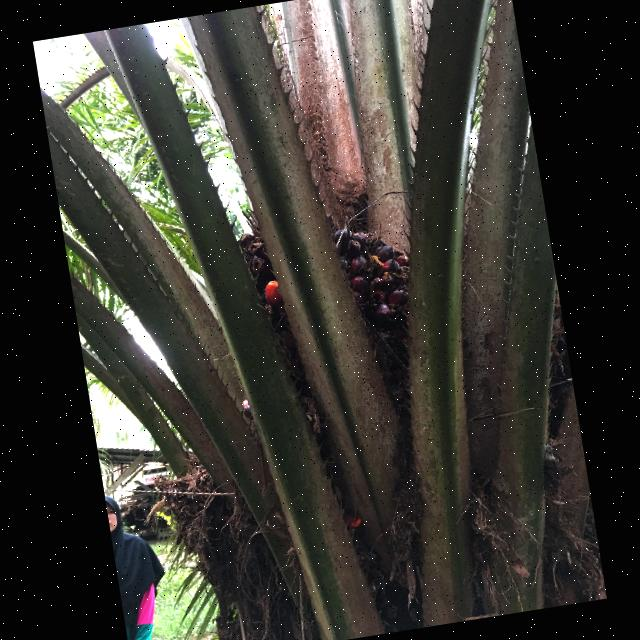Unripe: (338, 228, 415, 345)
